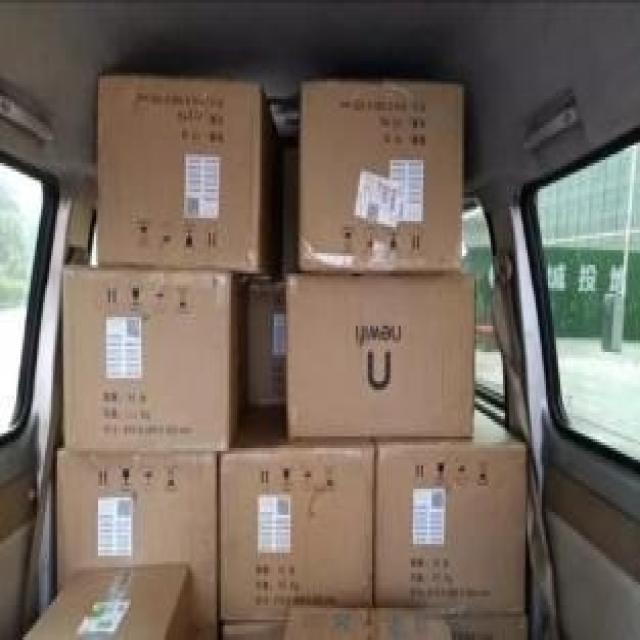Carton: (57, 76, 260, 442), (20, 448, 370, 637), (282, 271, 470, 439), (299, 81, 460, 268), (374, 445, 523, 605)
